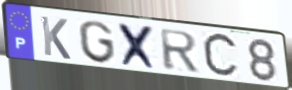8: (245, 37, 279, 83)
C: (200, 31, 241, 81)
G: (77, 19, 118, 66)
K: (39, 14, 73, 62)
R: (157, 27, 201, 73)
X: (116, 22, 160, 73)
